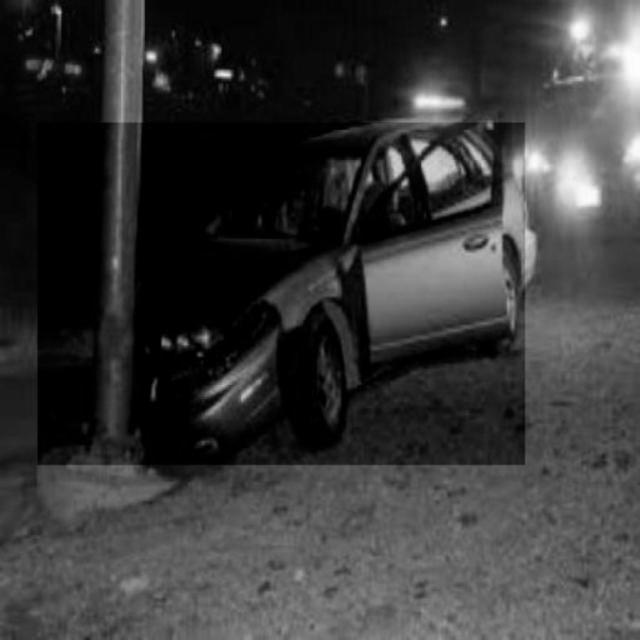accident: (38, 123, 525, 465)
